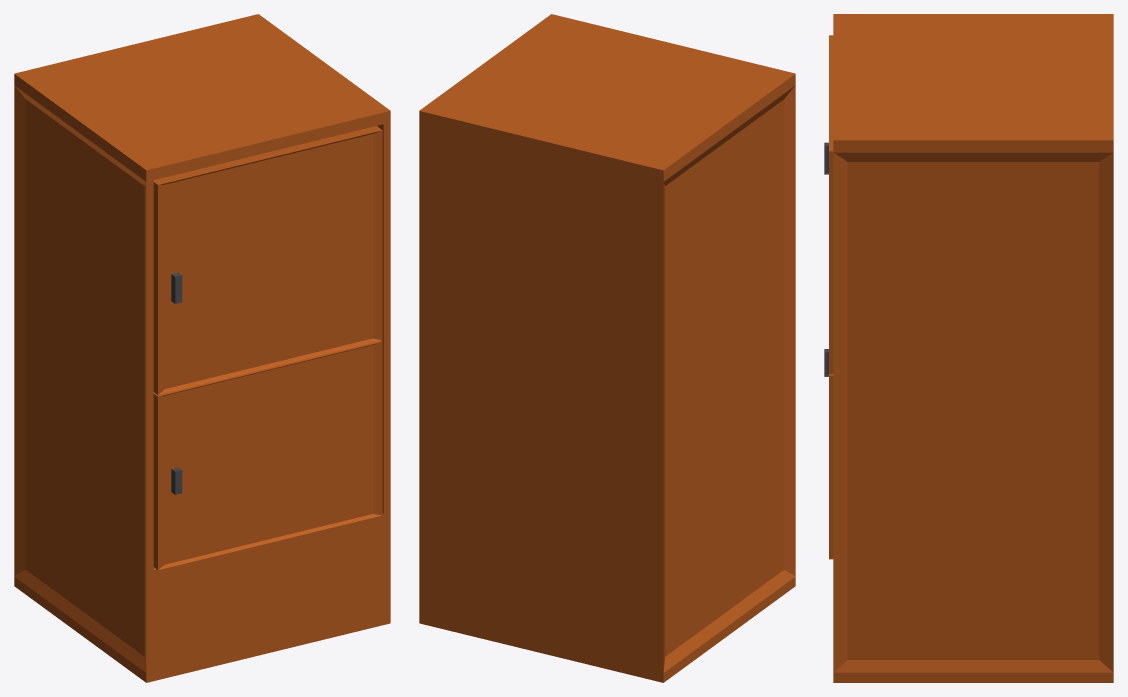
Rendered from CajoneraDoble.fbx.
The picture shows the model from 3 angles, left to right: view 1: azimuth 30°, elevation 25°; view 2: azimuth 150°, elevation 25°; view 3: azimuth 270°, elevation 25°; orthographic projection. The views are drawn at different scales.
Parts seen in each view (by area): view 1: ArmarioLavamanos, PuertaArmario001, PuertaArmario004; view 2: ArmarioLavamanos; view 3: ArmarioLavamanos, PuertaArmario001, PuertaArmario004.
Boxes of the visible parts, x1,y1,x2,y2 form: ArmarioLavamanos: (14, 14, 390, 682); PuertaArmario001: (153, 126, 382, 394); PuertaArmario004: (153, 341, 382, 569); ArmarioLavamanos: (419, 14, 795, 682); ArmarioLavamanos: (833, 14, 1113, 682); PuertaArmario001: (824, 35, 833, 373); PuertaArmario004: (824, 349, 833, 559).
Bounding box in the file's own units: 0.5276 × 1.06 × 0.5108.
